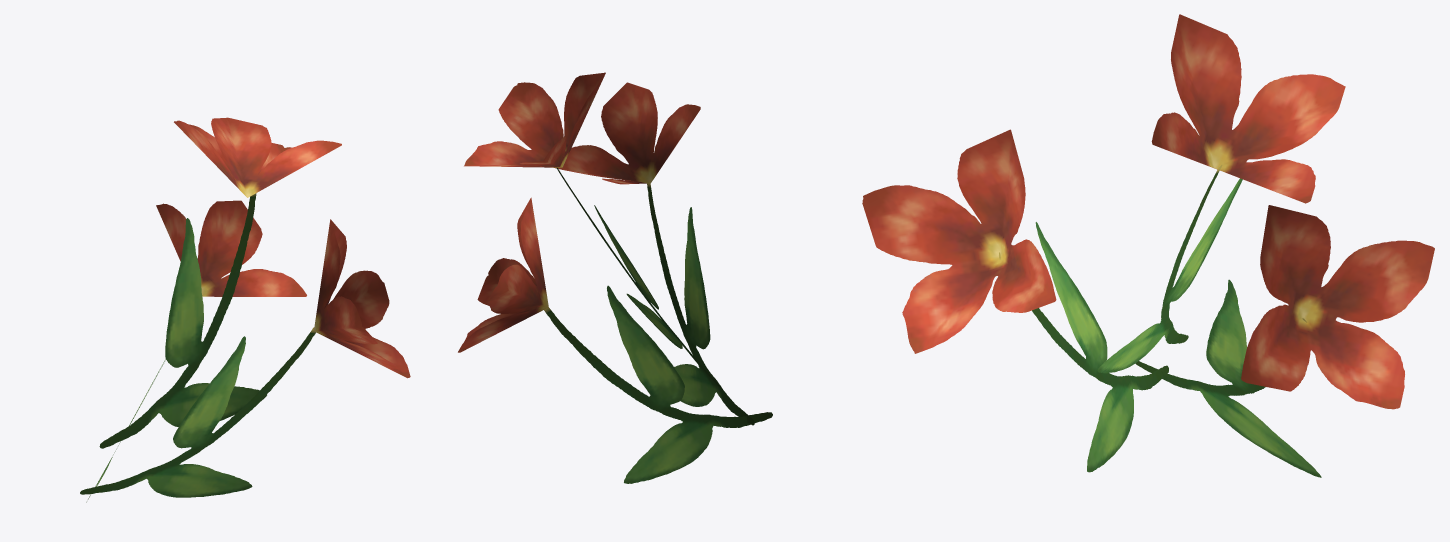
Rendered from tu_ivyflowers02.obj.
3 views of the same model, side by side, from view 1: azimuth 30°, elevation 25°; view 2: azimuth 150°, elevation 25°; view 3: azimuth 270°, elevation 25° (orthographic). The views are drawn at different scales.
Parts seen in each view (by area): view 1: TU_IVYFLOWERS020; view 2: TU_IVYFLOWERS020; view 3: TU_IVYFLOWERS020.
Boxes of the visible parts, x1=… form: TU_IVYFLOWERS020: x1=80, y1=117, x2=410, y2=502; TU_IVYFLOWERS020: x1=458, y1=72, x2=772, y2=483; TU_IVYFLOWERS020: x1=862, y1=14, x2=1434, y2=477.
Size of the model in its own units: 1.43 by 2 by 1.66.
Materials: 1 (1 with a texture image).
